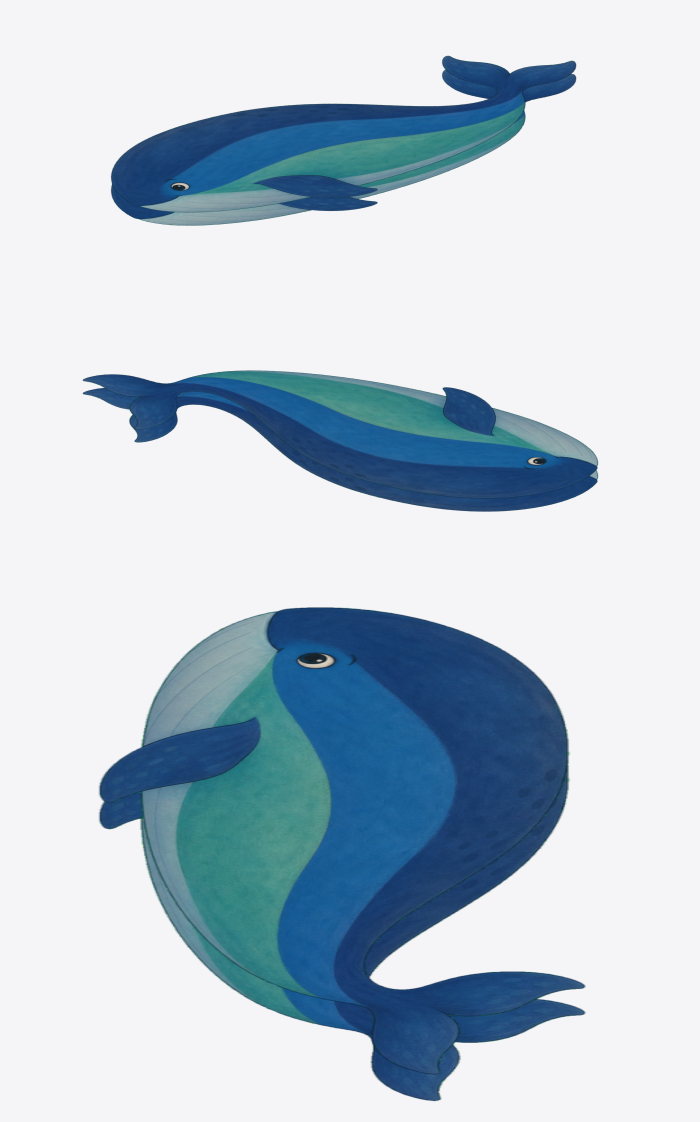
The model's file is 020_giant_fish_card.glb.
3 views of the same model, one above another, from view 1: azimuth 30°, elevation 25°; view 2: azimuth 150°, elevation 25°; view 3: azimuth 270°, elevation 25° (orthographic). The views are drawn at different scales.
Parts seen in each view (by area): view 1: 020_giant_fish_card; view 2: 020_giant_fish_card; view 3: 020_giant_fish_card.
Part boxes in pixels (bbox=[...]): 020_giant_fish_card: bbox=[111, 55, 576, 225]; 020_giant_fish_card: bbox=[82, 370, 597, 511]; 020_giant_fish_card: bbox=[99, 607, 585, 1100].
Size of the model in its own units: 2 by 0.05 by 1.14.
1 material, 1 textured.
